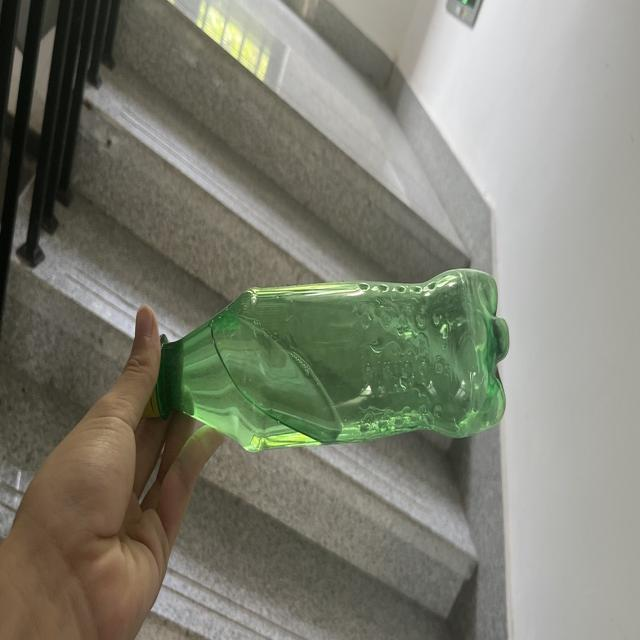low: (144, 269, 508, 451)
